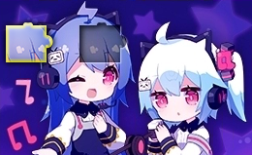gap: (80, 22, 126, 63)
